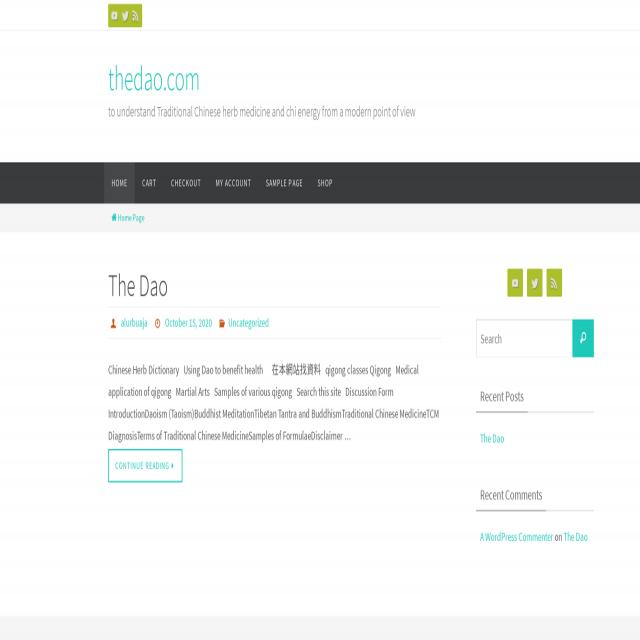button: (108, 449, 183, 483), (208, 162, 259, 203), (259, 162, 310, 203), (164, 162, 208, 203), (104, 162, 135, 203), (134, 162, 164, 203), (310, 162, 340, 203), (572, 320, 594, 358), (547, 268, 562, 296), (527, 269, 543, 295), (508, 270, 523, 297), (110, 6, 120, 25), (120, 6, 130, 25), (131, 6, 141, 25)
field: (476, 319, 572, 358)
